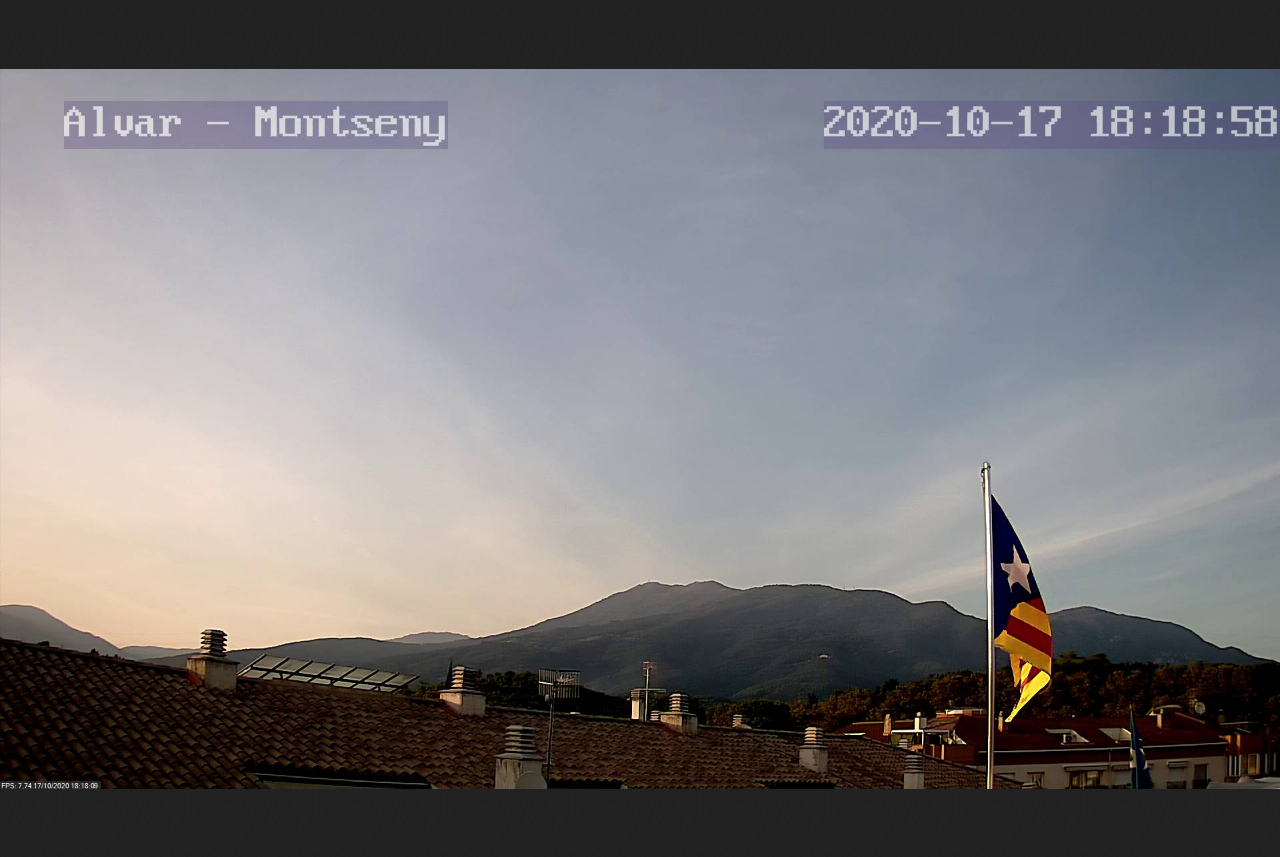no: (965, 453, 1064, 738)
